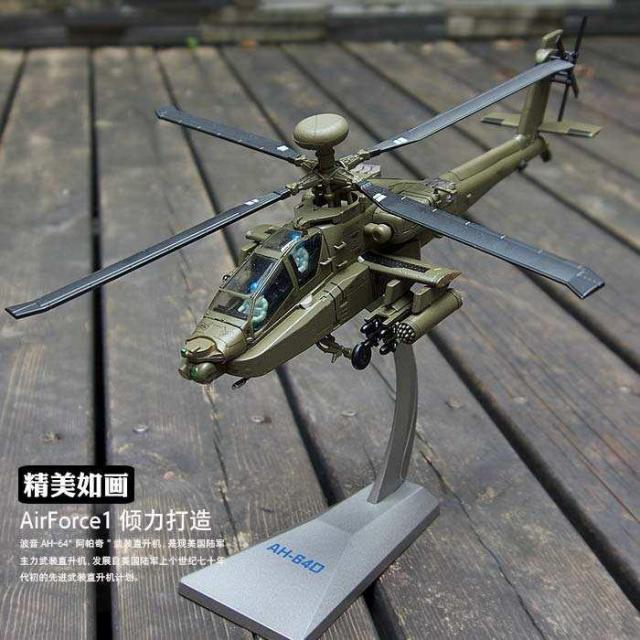MIL_HELO: (9, 12, 609, 396)
